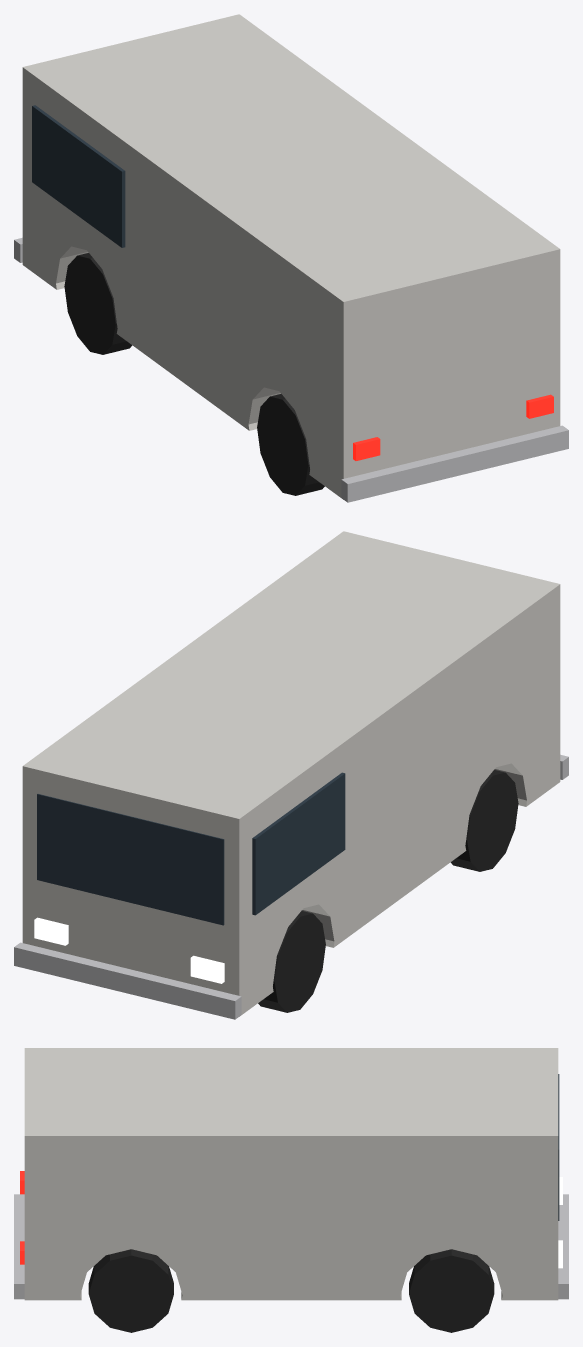
The model's file is van.glb.
3 renders of one model, top to bottom at view 1: azimuth 30°, elevation 25°; view 2: azimuth 150°, elevation 25°; view 3: azimuth 270°, elevation 25°, orthographic. The views are drawn at different scales.
Parts seen in each view (by area): view 1: body, side_glass_l, bumper_r, WHEEL_FL, WHEEL_RL; view 2: body, windscreen, side_glass_l, bumper_f, WHEEL_RL, WHEEL_FL, headlamp.001, headlamp; view 3: body, WHEEL_FR, WHEEL_RR, bumper_r, bumper_f.
Boxes of the visible parts, x1,y1,x2,y2 form: body: [22, 14, 560, 499]; side_glass_l: [32, 105, 125, 247]; bumper_r: [341, 425, 568, 502]; WHEEL_FL: [64, 253, 132, 354]; WHEEL_RL: [257, 393, 324, 495]; body: [22, 531, 560, 1016]; windscreen: [37, 794, 224, 925]; side_glass_l: [252, 772, 345, 915]; bumper_f: [14, 942, 241, 1019]; WHEEL_RL: [450, 770, 518, 871]; WHEEL_FL: [258, 910, 325, 1012]; headlamp.001: [34, 917, 68, 945]; headlamp: [190, 955, 224, 983]; body: [24, 1048, 558, 1300]; WHEEL_FR: [409, 1249, 494, 1332]; WHEEL_RR: [88, 1249, 173, 1332]; bumper_r: [14, 1194, 24, 1299]; bumper_f: [558, 1194, 568, 1299].
Size of the model in its own units: 2 by 2.05 by 5.2.
